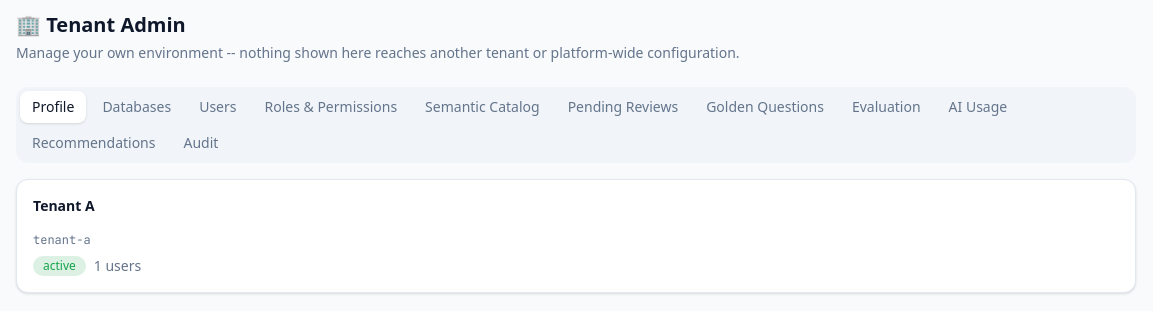
Test: TenantAdmin › shows audit events scoped to this tenant only
Click the tab "Audit": (201, 143) [172, 127, 230, 159]
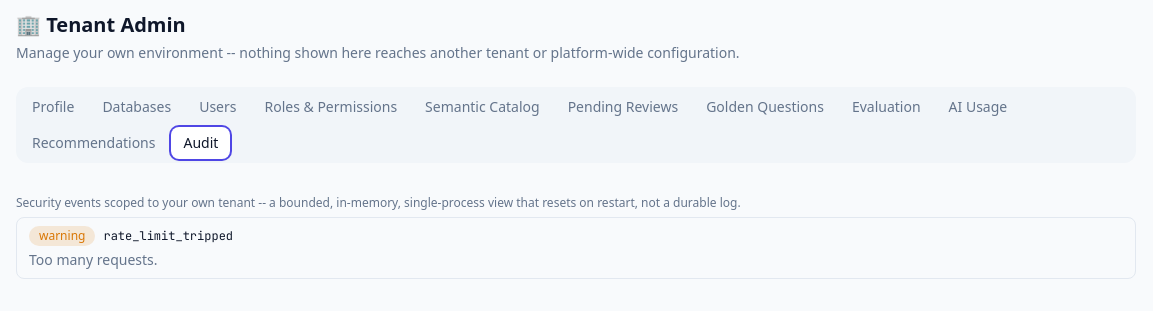
Expected: the text "rate_limit_tripped" is shown, [103, 228, 233, 244]
